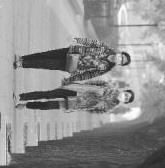person: (13, 36, 132, 83), (14, 81, 137, 113)
